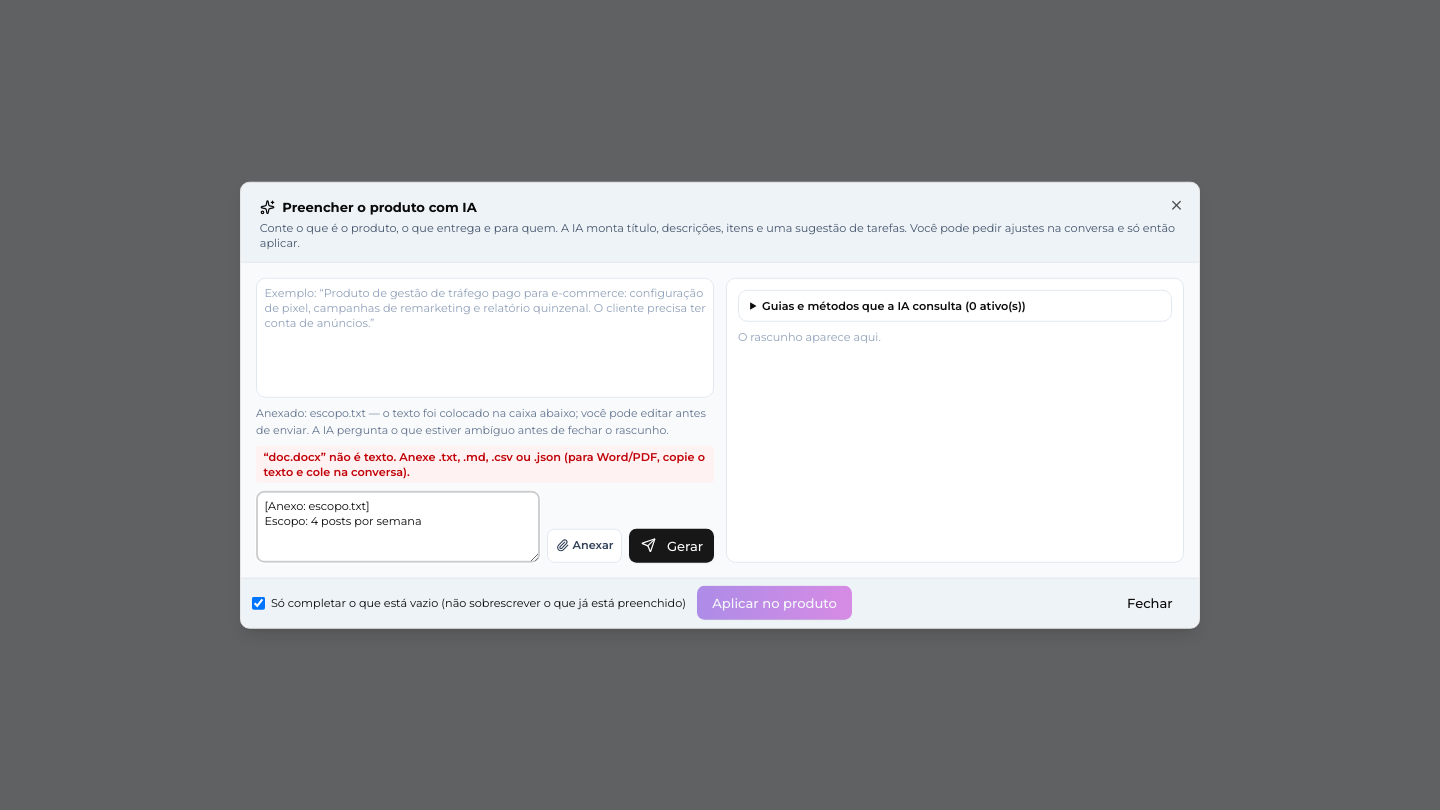
Test: IA que preenche o produto (P-8) › R21-14: anexar um .txt coloca o texto na conversa; Word/PDF é recusado com orientação; o aplicar leva a opção
Earlier steps of the test are not shown.
Later steps or results of the test are not shown.
expect the text with test id "ai-attached" shows "escopo.txt": met, box [310, 406, 366, 420]
expect the message shows "não é texto": met, box [264, 449, 705, 478]
Click the button "Gerar" at {"x": 672, "y": 546}, box [630, 529, 714, 563]
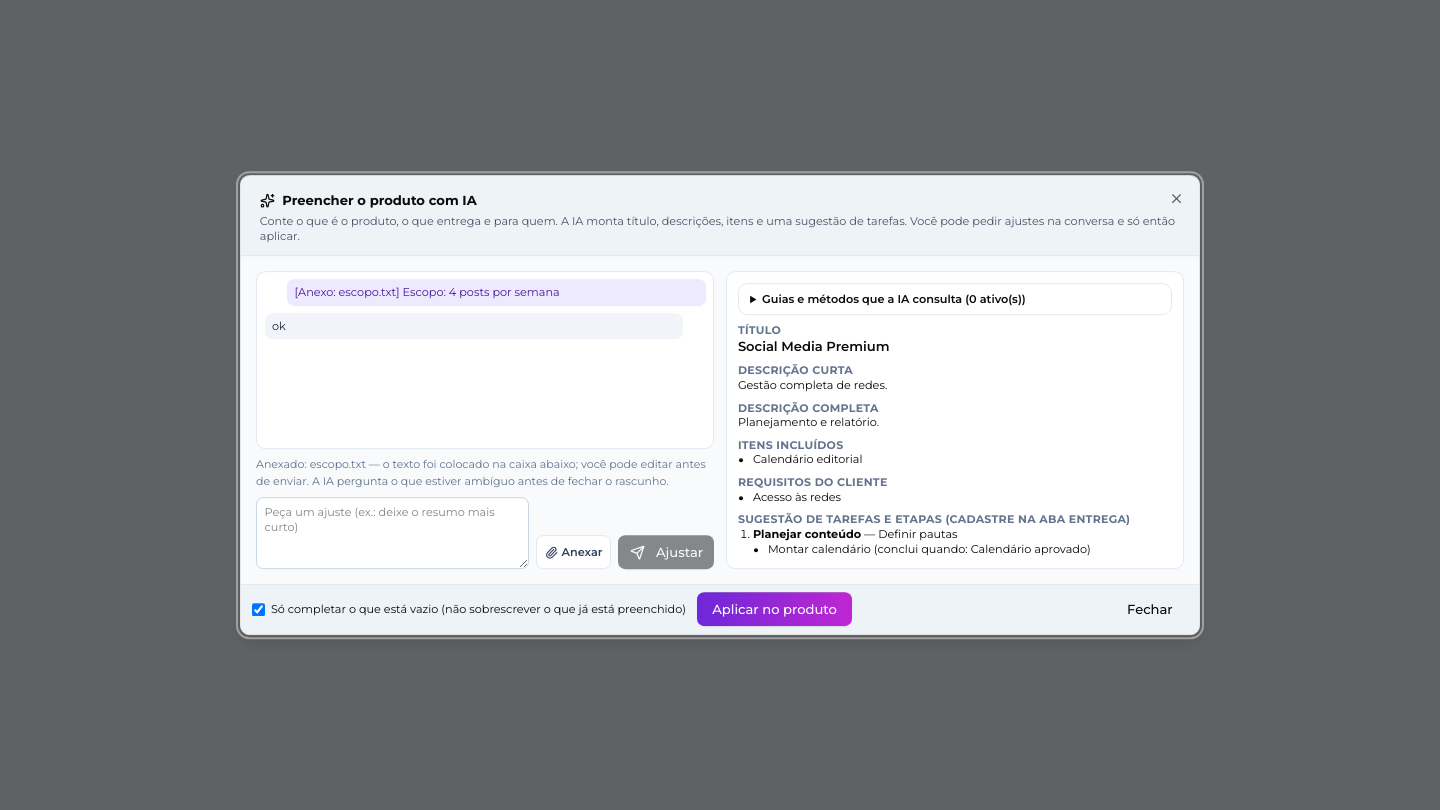
expect the checkbox with test id "ai-only-empty" is checked: met, box [252, 603, 265, 616]
expect the list item "ok" is shown: met, box [264, 313, 683, 340]
